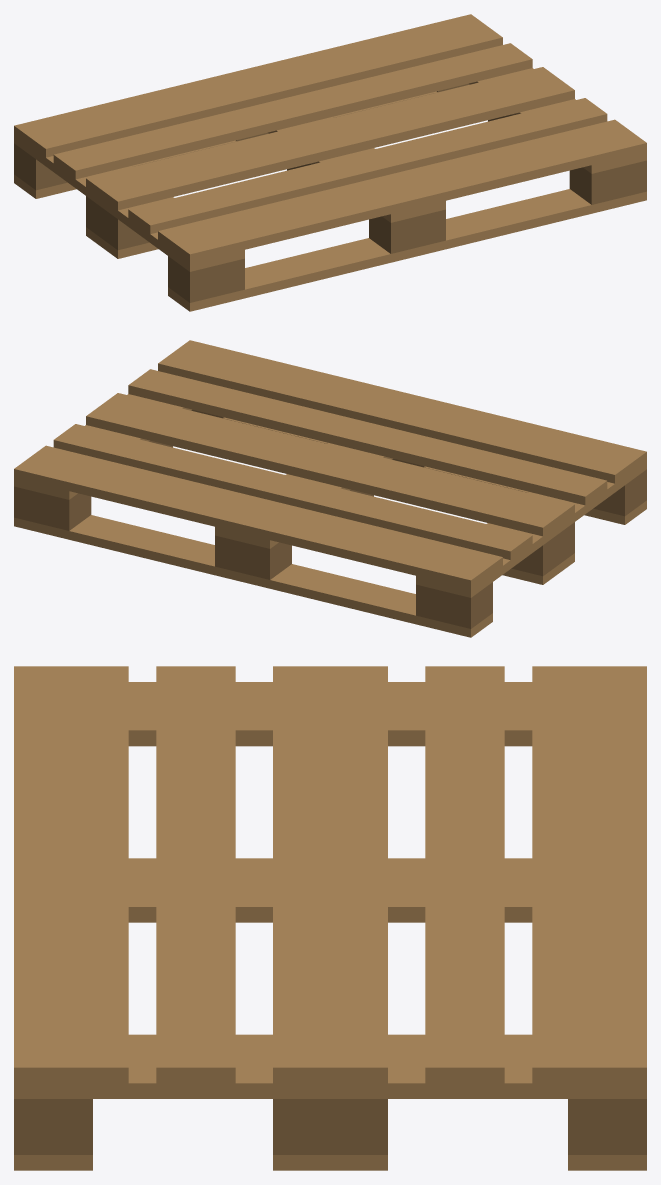
Rendered from pallet.glb.
3 views of the same model, one above another, from view 1: azimuth 30°, elevation 25°; view 2: azimuth 150°, elevation 25°; view 3: azimuth 270°, elevation 25° (orthographic). The views are drawn at different scales.
Parts seen in each view (by area): view 1: Pallet; view 2: Pallet; view 3: Pallet.
Boxes of the visible parts, box(x1,y1,x2,y2) form: Pallet: box(14, 14, 646, 311); Pallet: box(14, 340, 646, 637); Pallet: box(14, 666, 646, 1170).
Bounding box in the file's own units: 1.2 × 0.144 × 0.8.
